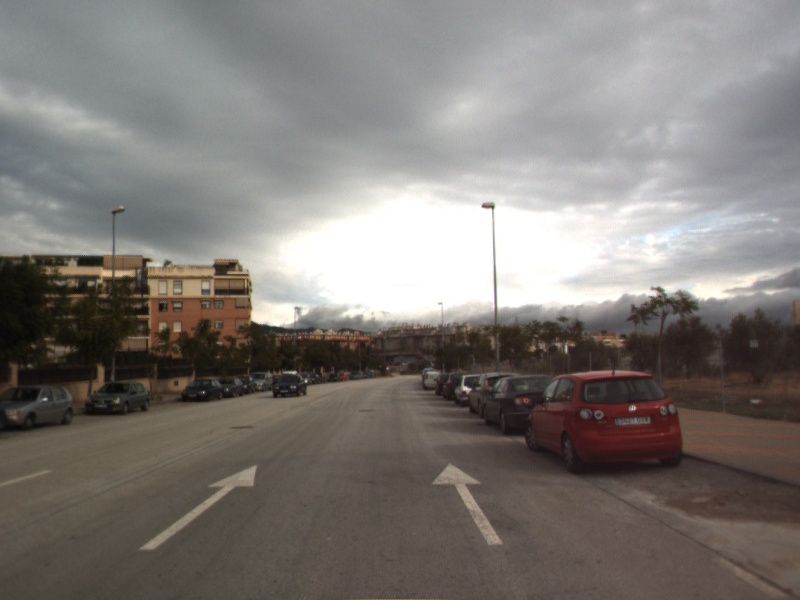STRAIGHT: (137, 463, 259, 552), (430, 461, 505, 547)
